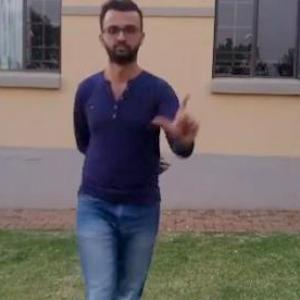land_hand: (149, 89, 205, 149)
